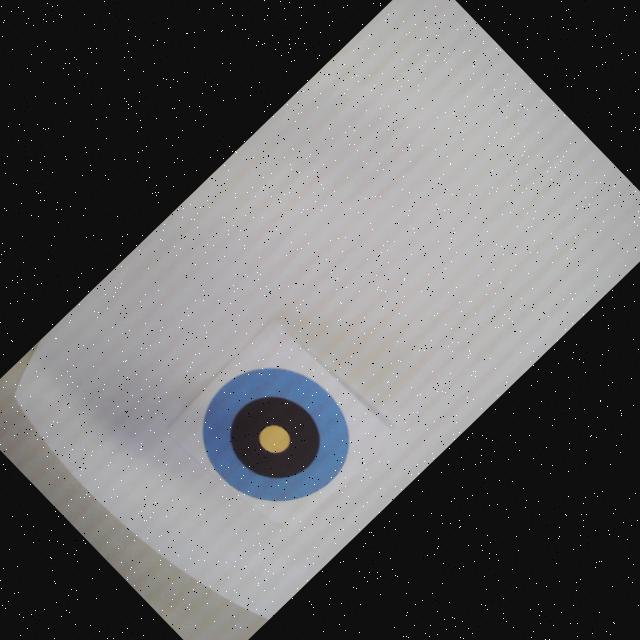COGNITIVE: (177, 335, 376, 534)
